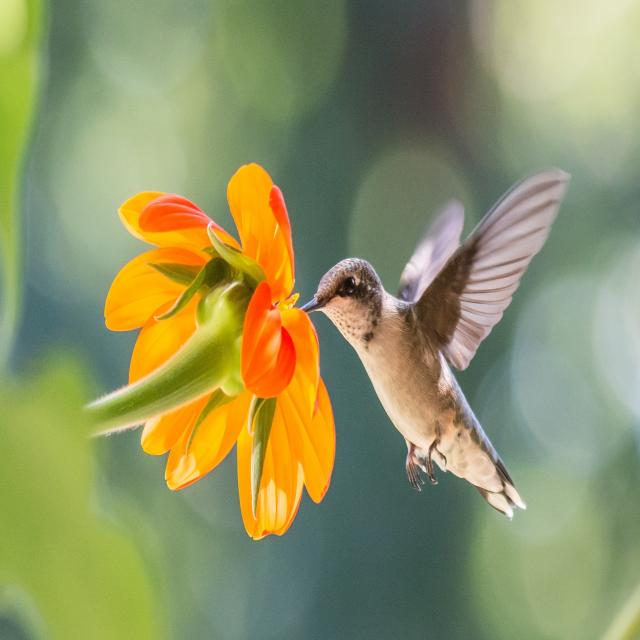Humming Bird: (307, 174, 560, 518)
